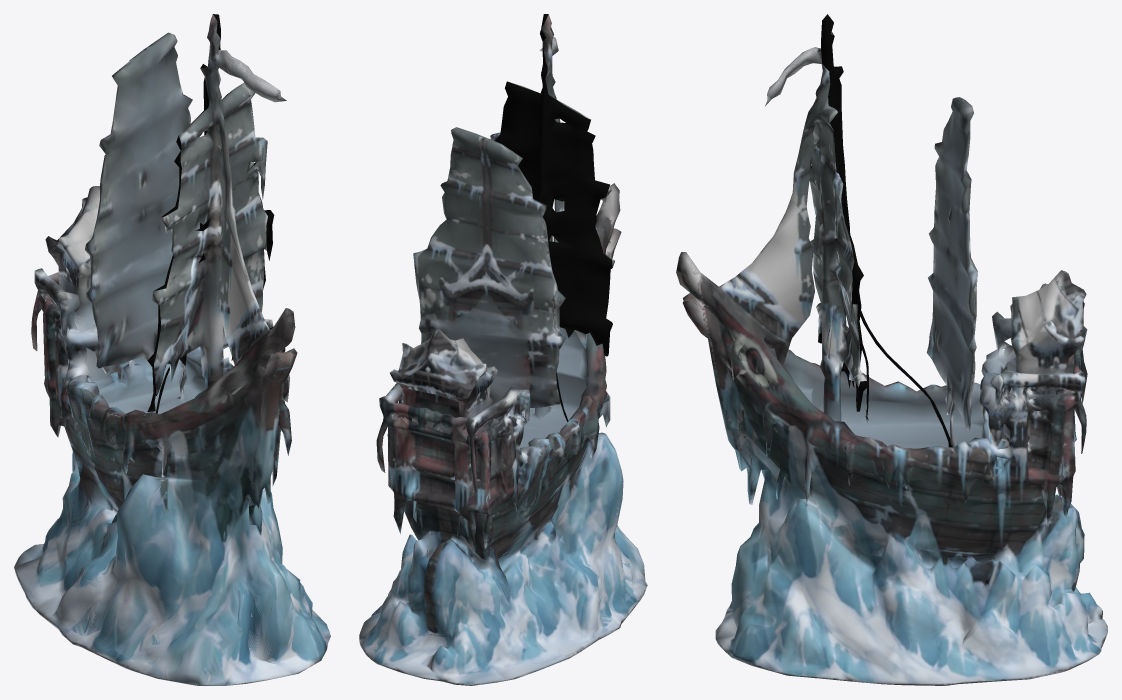
File: SM_Tripo_FrostSeaJunk.glb
3 renders of one model, left to right at view 1: azimuth 30°, elevation 25°; view 2: azimuth 150°, elevation 25°; view 3: azimuth 270°, elevation 25°, orthographic. The views are drawn at different scales.
Visible parts, largest first — view 1: SM_Tripo_FrostSeaJunk_LOD0; view 2: SM_Tripo_FrostSeaJunk_LOD0; view 3: SM_Tripo_FrostSeaJunk_LOD0.
Part boxes in pixels (x1,y1,x2,y2): SM_Tripo_FrostSeaJunk_LOD0: [14, 14, 330, 685]; SM_Tripo_FrostSeaJunk_LOD0: [359, 14, 647, 685]; SM_Tripo_FrostSeaJunk_LOD0: [676, 14, 1107, 685].
Size of the model in its own units: 5.82 by 15.33 by 9.74.
Materials: 1 (1 with a texture image).
